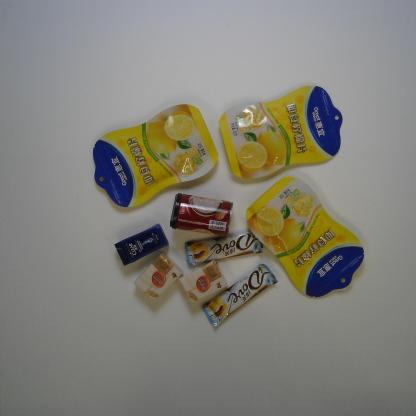Canned Food: (169, 193, 234, 238)
Chocolate: (201, 263, 279, 328), (184, 229, 263, 266)
Dried Fruit: (245, 175, 365, 299), (92, 104, 220, 209), (218, 85, 344, 180)
Personal Hygiene: (114, 223, 169, 266)
Tissue: (132, 252, 184, 300), (179, 260, 229, 304)
